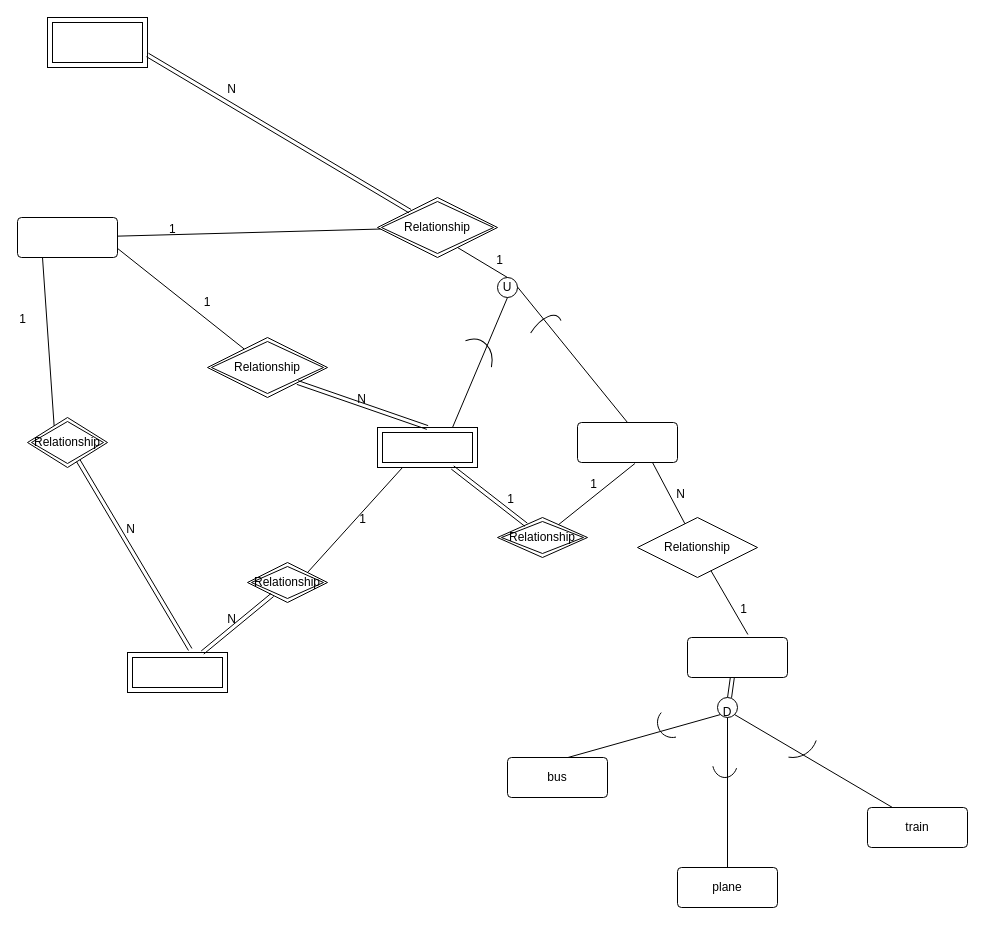
This 985x925 diagram has some shape labels left out. Here are the shapes that lost their labels. From the top down, the centre of each, then its label:
the point at 97,42: report
the point at 67,237: user
the point at 427,447: reserve
the point at 627,442: ticket
the point at 177,672: payment
the point at 737,657: vehicle
